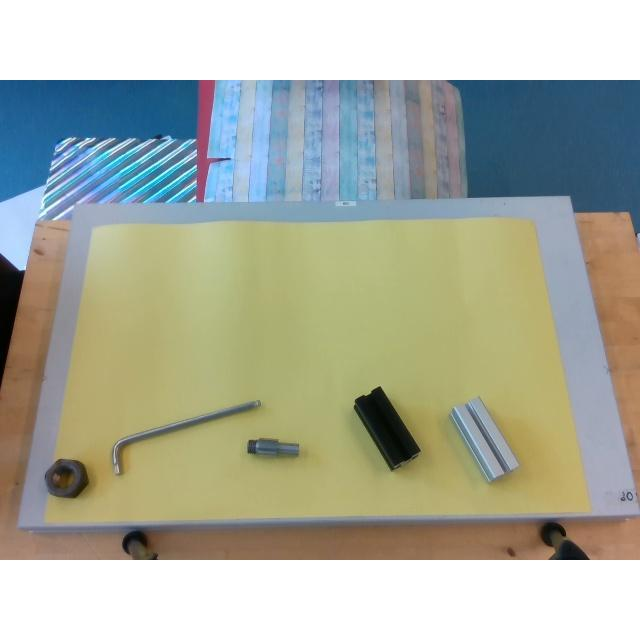AllenKey: (111, 400, 261, 476)
Axis2: (246, 438, 298, 454)
M30: (44, 459, 88, 497)
S40_40_B: (354, 386, 420, 470)
S40_40_G: (450, 397, 518, 481)
